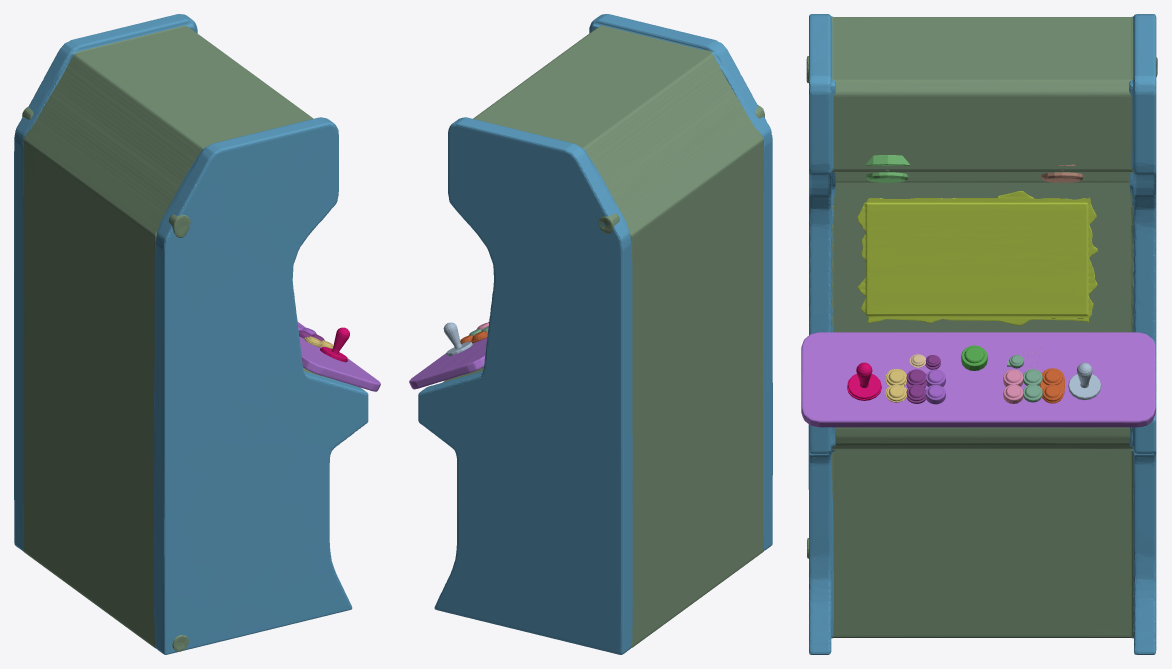
The picture shows the model from 3 angles, left to right: view 1: azimuth 30°, elevation 25°; view 2: azimuth 150°, elevation 25°; view 3: azimuth 270°, elevation 25°; orthographic projection. The views are drawn at different scales.
Parts seen in each view (by area): view 1: world; view 2: world; view 3: world.
Part boxes in pixels (x1,y1,x2,y2): world: (14, 14, 380, 654); world: (409, 14, 772, 654); world: (801, 14, 1157, 654).
Size of the model in its own units: 0.8758 by 1.88 by 1.07.
